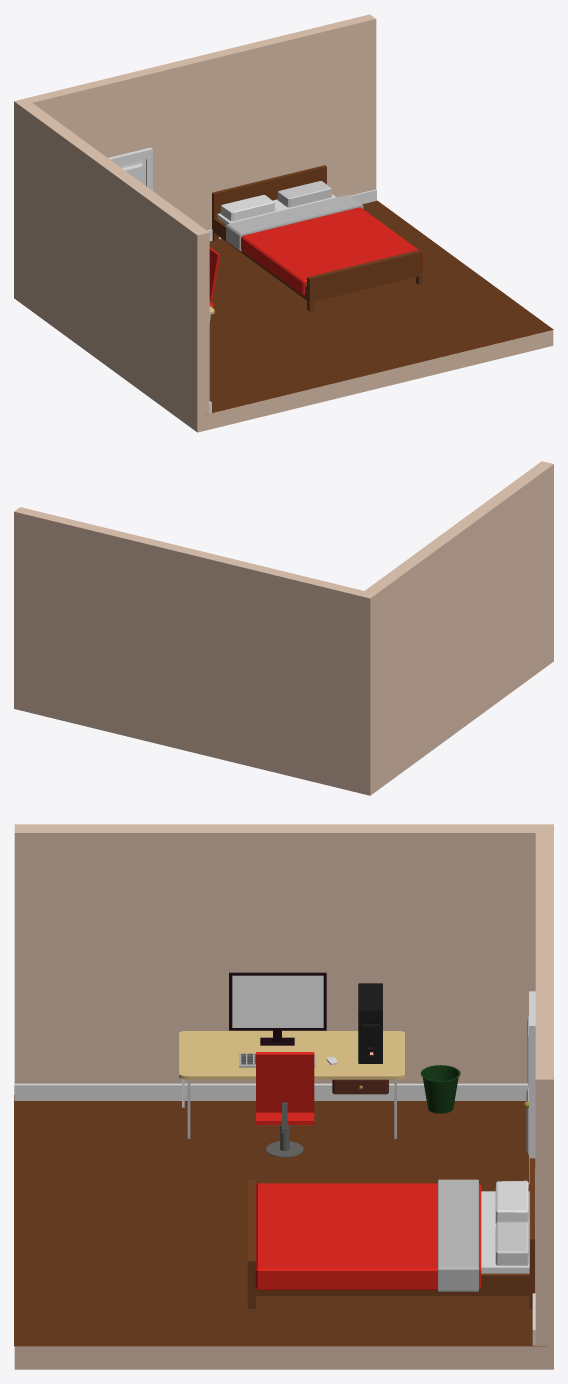
Rendered from bedroom.fbx.
The picture shows the model from 3 angles, top to bottom: view 1: azimuth 30°, elevation 25°; view 2: azimuth 150°, elevation 25°; view 3: azimuth 270°, elevation 25°; orthographic projection. The views are drawn at different scales.
Visible parts, largest first — view 1: Cube, Plane_001, Cube_005, Cube_003, Cube_006, Cube_001, Cube_007, Cube_008; view 2: Cube; view 3: Cube, Plane_001, Cube_005, Cube_010, Plane_013, Cube_006, Cube_003, Cube_031, Cube_2, Cube_032, Cube_017, Cube_004 (+7 smaller).
Boxes of the visible parts, x1,y1,x2,y2 form: Cube: (14,14,553,432); Plane_001: (206,200,553,414); Cube_005: (241,207,422,295); Cube_003: (212,165,422,311); Cube_006: (226,194,363,251); Cube_001: (108,147,152,190); Cube_007: (277,181,331,207); Cube_008: (221,195,275,221); Cube: (14,461,553,795); Cube: (14,824,553,1369); Plane_001: (14,1095,546,1346); Cube_005: (255,1183,481,1290); Cube_010: (179,1031,404,1079); Plane_013: (232,975,323,1027); Cube_006: (438,1179,478,1291); Cube_003: (247,1158,535,1308); Cube_031: (14,1083,246,1100); Cube_2: (256,1052,314,1112); Cube_032: (245,1083,528,1100); Cube_017: (358,983,382,1063); Cube_004: (481,1191,529,1273).
Bounding box in the file's own units: 400 × 235 × 358.
